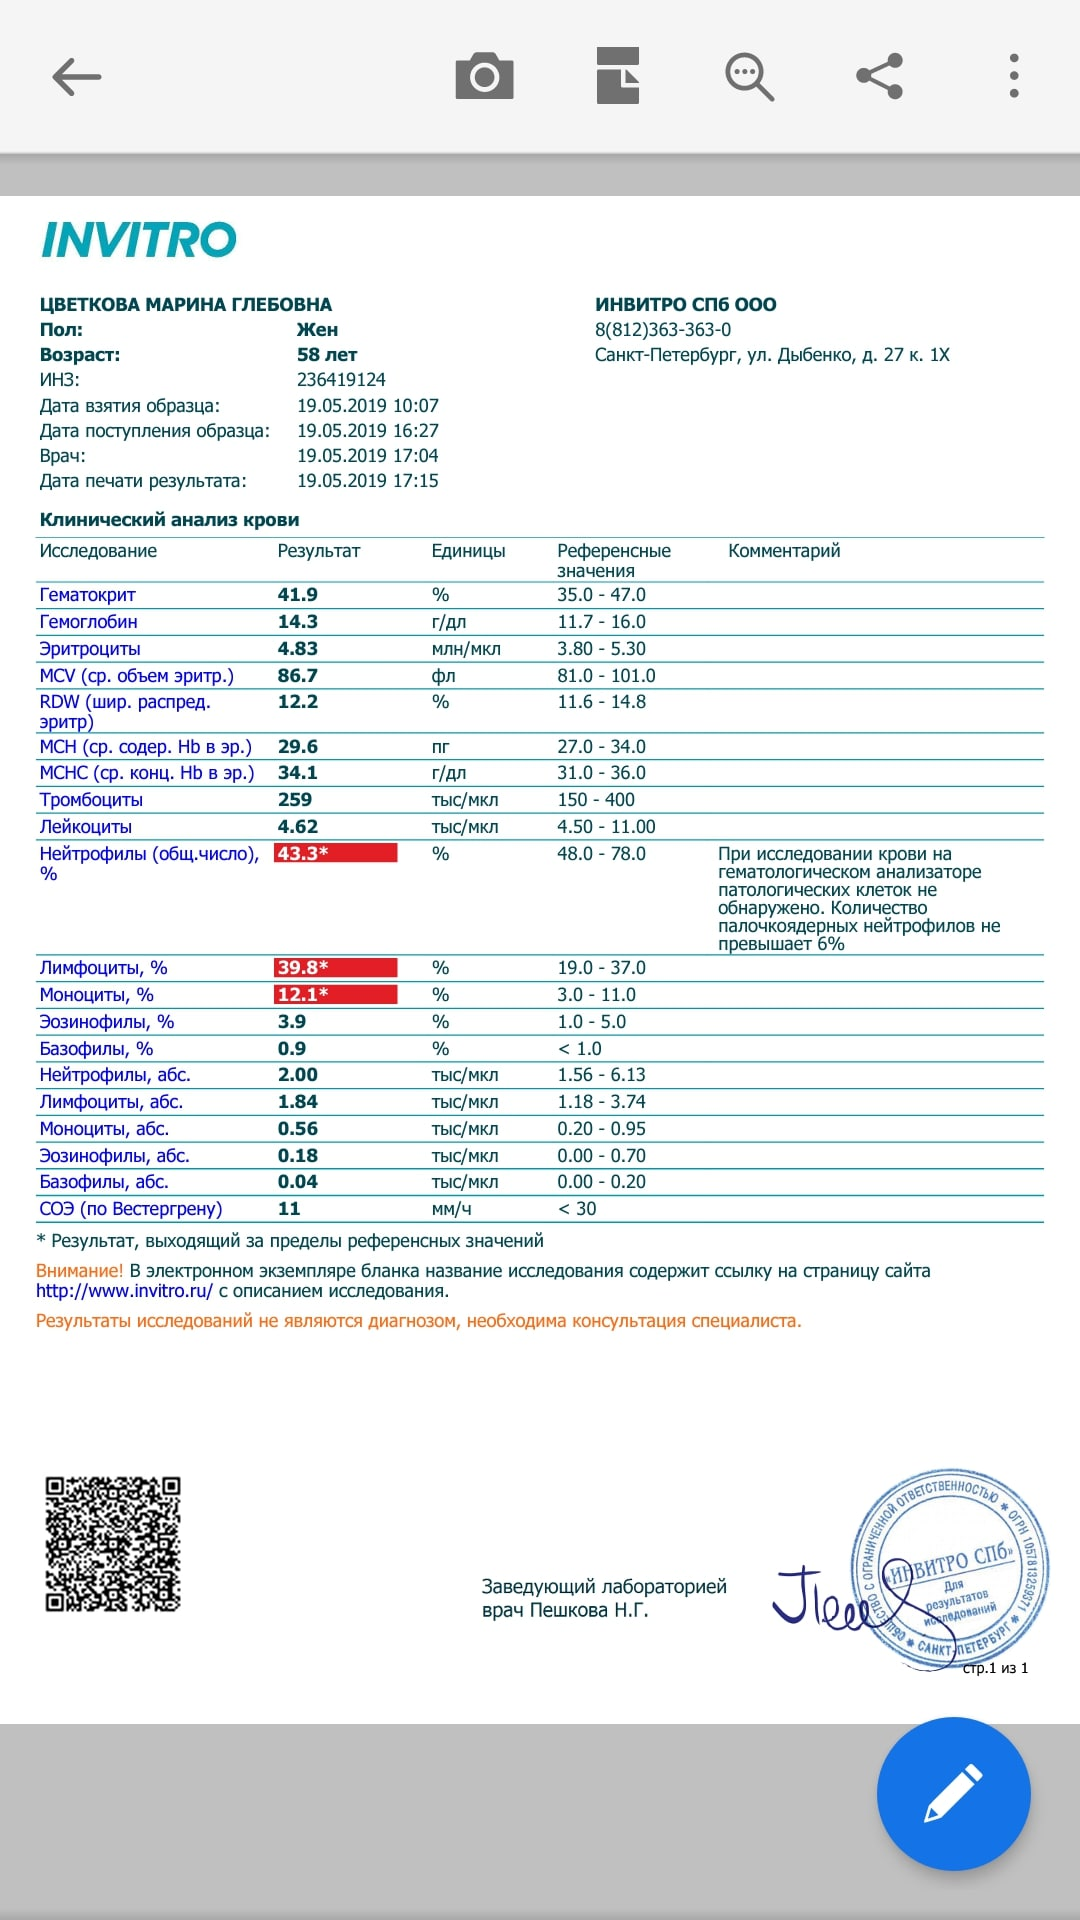column: (717, 537, 1001, 1222), (40, 537, 258, 1222), (555, 537, 673, 1222), (277, 537, 361, 1222), (431, 537, 506, 1222)
